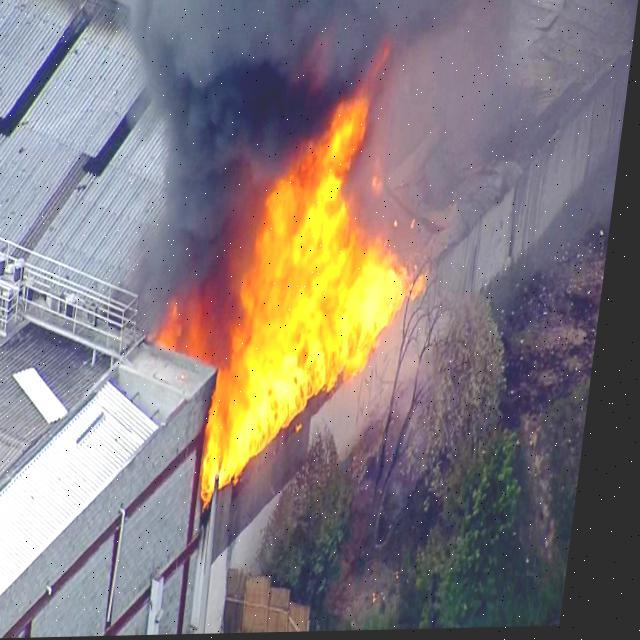Fire: (202, 86, 454, 508), (163, 287, 218, 359)
